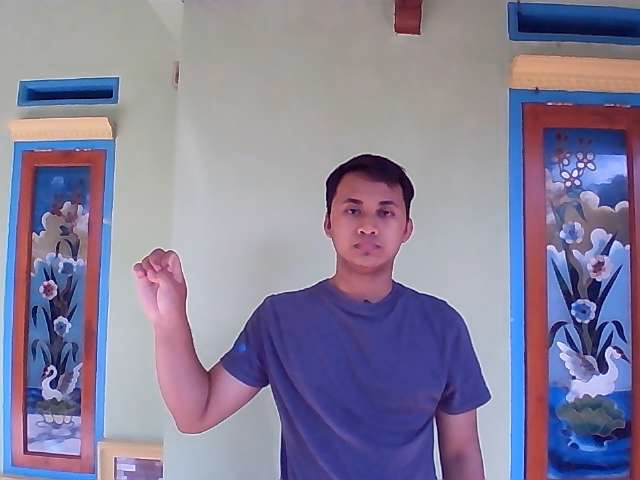E: (130, 247, 187, 313)
